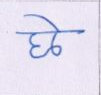e_matra: (24, 13, 62, 32)
